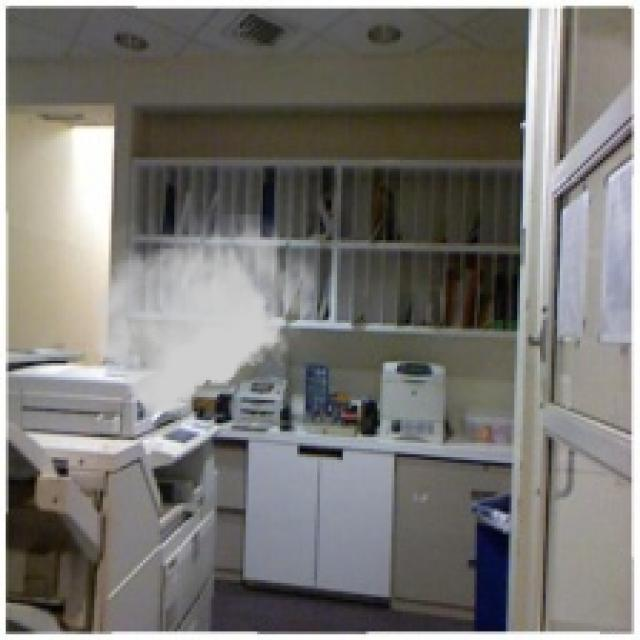Smoke: (92, 214, 314, 414)
